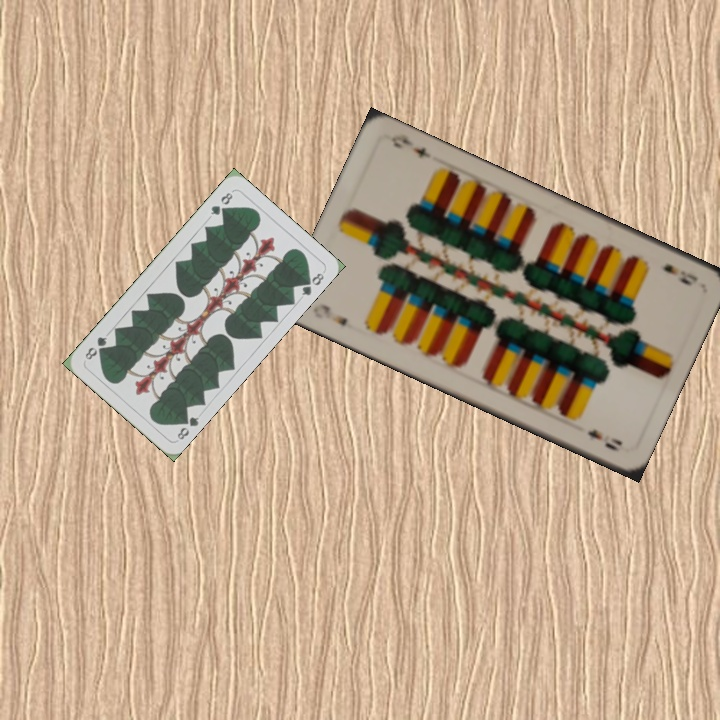E9: (308, 299, 351, 329), (659, 260, 700, 289)
G8: (206, 188, 236, 218), (173, 411, 202, 442)
